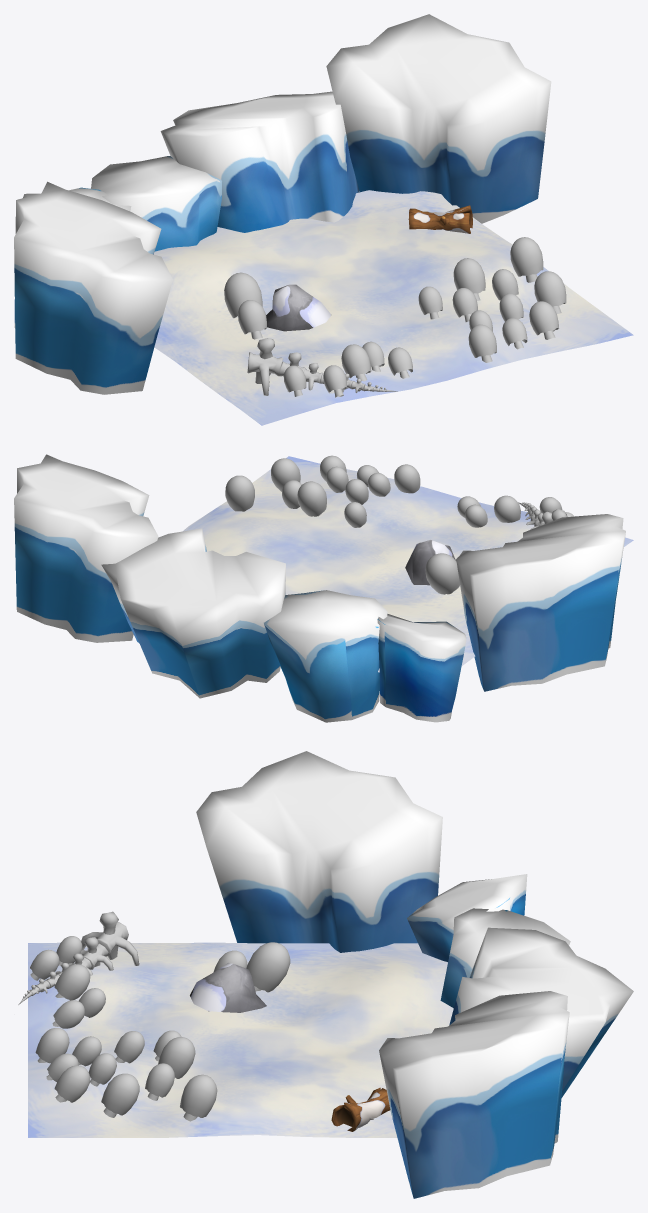
The model's file is Map_1_C_3.FBX.
The picture shows the model from 3 angles, top to bottom: view 1: azimuth 30°, elevation 25°; view 2: azimuth 150°, elevation 25°; view 3: azimuth 270°, elevation 25°; orthographic projection. The views are drawn at different scales.
Visible parts, largest first — view 1: tereno1, Iceberg011, Iceberg018, Iceberg020, Iceberg009, Stone04, Animal bones, Wooden3, Icethree078, Icethree045, Icethree092, Icethree080 (+10 smaller); view 2: tereno1, Iceberg018, Iceberg020, Iceberg011, Iceberg009, Iceberg014, Icethree045, Stone04, Icethree078, Icethree080, Icethree092, Icethree085 (+8 smaller); view 3: tereno1, Iceberg018, Iceberg011, Iceberg020, Iceberg014, Iceberg009, Stone04, Animal bones, Icethree045, Wooden3, Icethree078, Icethree092 (+10 smaller).
Boxes of the visible parts, x1=… form: tereno1: x1=154, y1=190, x2=633, y2=425; Iceberg011: x1=326, y1=14, x2=551, y2=223; Iceberg018: x1=14, y1=181, x2=172, y2=394; Iceberg020: x1=160, y1=91, x2=359, y2=232; Iceberg009: x1=91, y1=156, x2=221, y2=251; Stone04: x1=266, y1=284, x2=331, y2=331; Animal bones: x1=247, y1=338, x2=397, y2=395; Wooden3: x1=408, y1=205, x2=472, y2=233; Icethree078: x1=510, y1=237, x2=543, y2=282; Icethree045: x1=224, y1=272, x2=262, y2=318; Icethree092: x1=534, y1=271, x2=566, y2=313; Icethree080: x1=453, y1=258, x2=485, y2=300; tereno1: x1=182, y1=456, x2=633, y2=672; Iceberg018: x1=456, y1=514, x2=625, y2=691; Iceberg020: x1=101, y1=528, x2=285, y2=698; Iceberg011: x1=14, y1=454, x2=158, y2=642; Iceberg009: x1=264, y1=590, x2=387, y2=722; Iceberg014: x1=377, y1=614, x2=466, y2=722; Icethree045: x1=425, y1=553, x2=459, y2=594; Stone04: x1=405, y1=540, x2=455, y2=585; Icethree078: x1=225, y1=475, x2=254, y2=511; Icethree080: x1=297, y1=481, x2=326, y2=516; Icethree092: x1=271, y1=458, x2=300, y2=491; Icethree085: x1=394, y1=464, x2=420, y2=493; tereno1: x1=28, y1=942, x2=453, y2=1137; Iceberg018: x1=196, y1=751, x2=442, y2=952; Iceberg011: x1=379, y1=991, x2=569, y2=1198; Iceberg020: x1=449, y1=927, x2=633, y2=1098; Iceberg014: x1=407, y1=874, x2=527, y2=961; Iceberg009: x1=440, y1=908, x2=570, y2=1008; Stone04: x1=190, y1=963, x2=266, y2=1012; Animal bones: x1=18, y1=911, x2=139, y2=1004; Icethree045: x1=246, y1=942, x2=290, y2=992; Wooden3: x1=331, y1=1087, x2=390, y2=1131; Icethree078: x1=180, y1=1074, x2=217, y2=1121; Icethree092: x1=101, y1=1073, x2=139, y2=1117.
Size of the model in its own units: 778 by 224 by 673.
